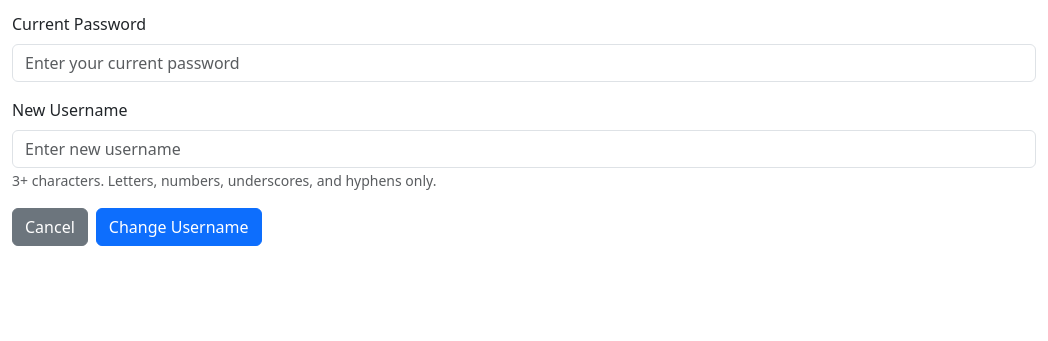
Scenario: ChangeUsername › validation errors › displays error when current password is empty
The width and height of the screenshot is (1048, 341).
Click the button "Change Username": (179, 227) left=96, top=208, right=262, bottom=246
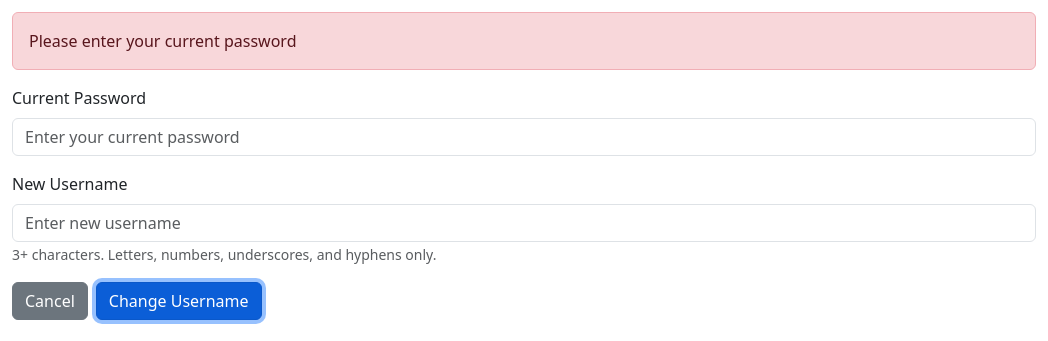
Expected: the text "Please enter your current password" is shown, left=12, top=12, right=1036, bottom=70
